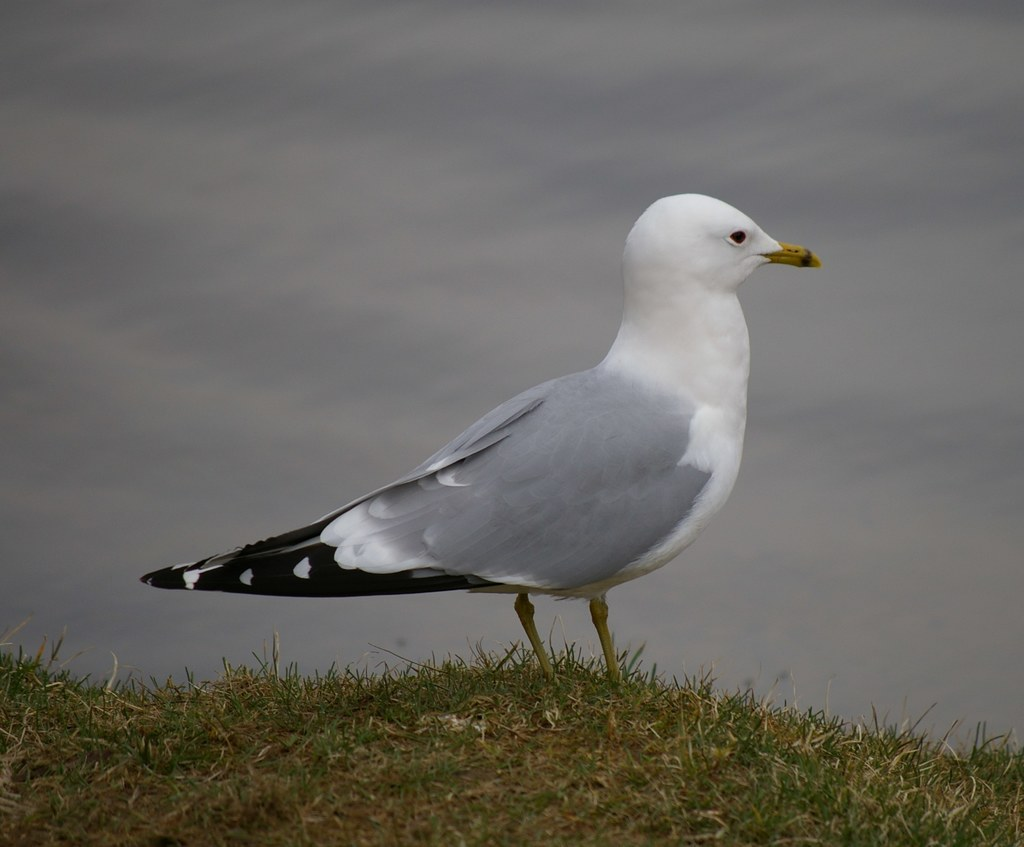Bird: (140, 193, 824, 686)
